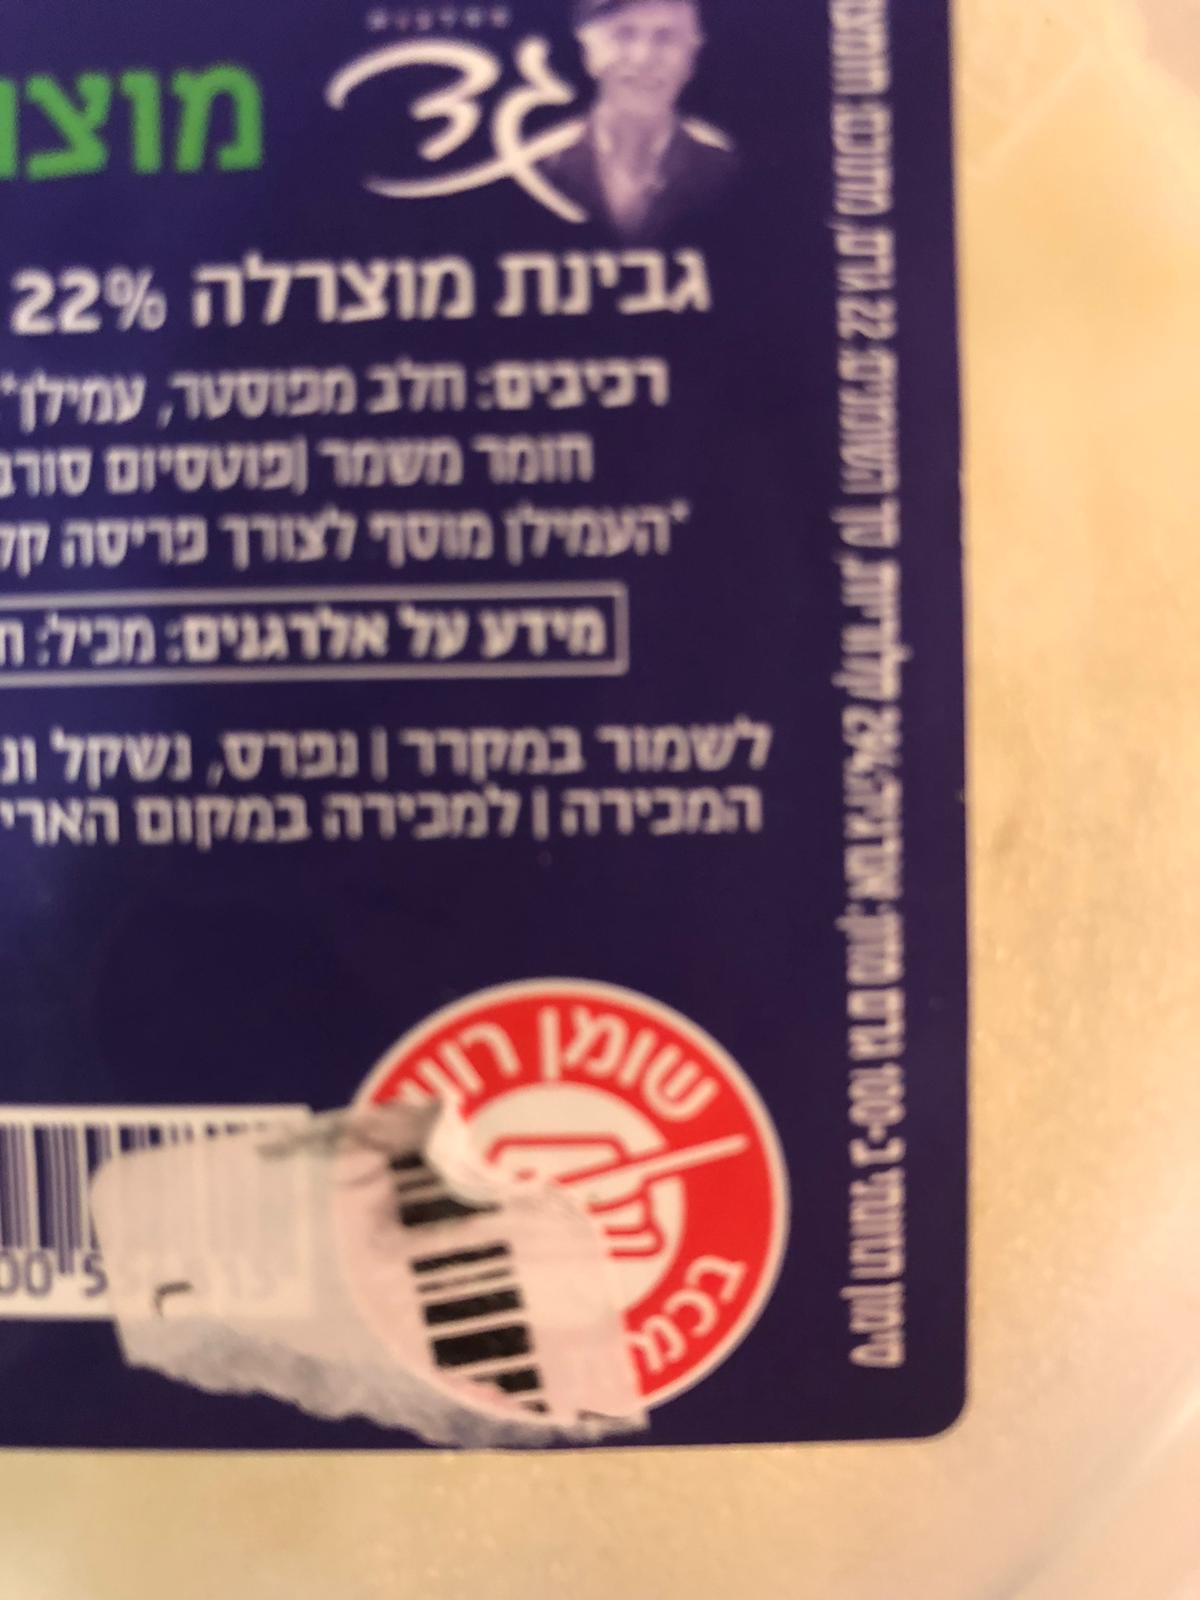fat: (345, 980, 792, 1415)
